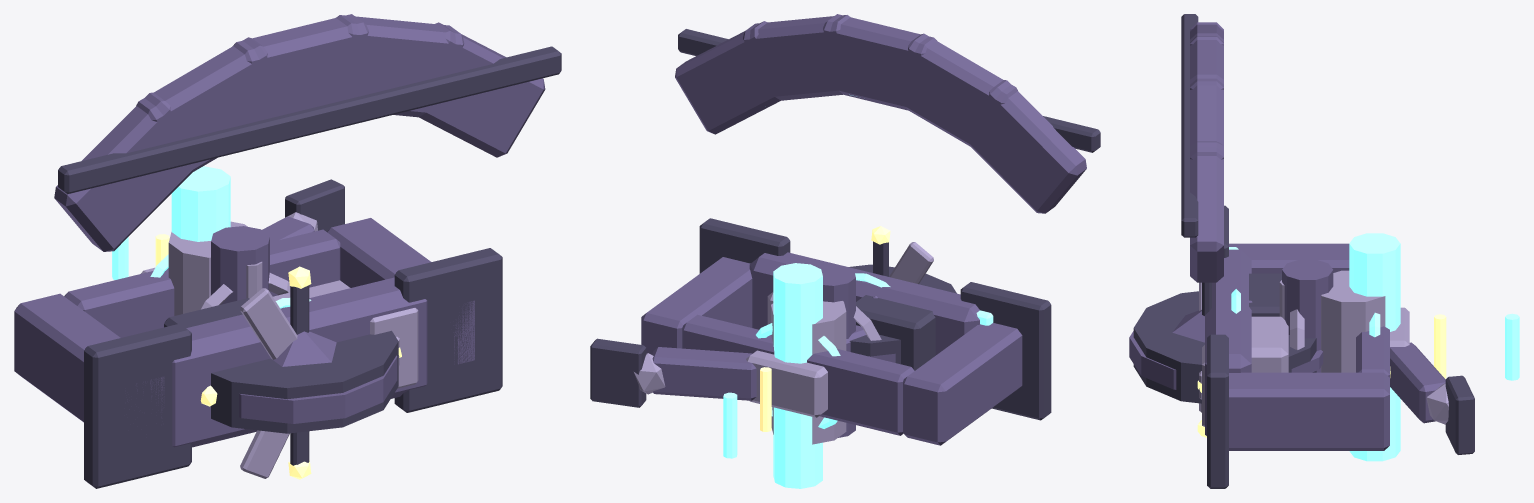
File: momentum_circuit_environment_v8.glb
3 views of the same model, side by side, from view 1: azimuth 30°, elevation 25°; view 2: azimuth 150°, elevation 25°; view 3: azimuth 270°, elevation 25° (orthographic). The views are drawn at different scales.
Parts seen in each view (by area): view 1: EnvFamily01_RingSegment_VioletCeramic, EnvFamily06_DockingFrame_Gunmetal, EnvFamily06_DockingFrame_VioletCeramic, EnvFamily01_RingSegment_Gunmetal, EnvFamily07_CargoSkiff_VioletCeramic, EnvFamily02_EnergyTower_Gunmetal, EnvFamily02_EnergyTower_CyanEmission, EnvFamily04_MaintenanceDisc_VioletCeramic, EnvFamily09_PatrolProbe_LavenderTrim, EnvFamily02_EnergyTower_LavenderTrim, EnvFamily10_SensorPylon_VioletCeramic, EnvFamily05_MechanicalArm_Gunmetal (+6 smaller); view 2: EnvFamily01_RingSegment_VioletCeramic, EnvFamily06_DockingFrame_VioletCeramic, EnvFamily06_DockingFrame_Gunmetal, EnvFamily02_EnergyTower_CyanEmission, EnvFamily07_CargoSkiff_VioletCeramic, EnvFamily05_MechanicalArm_VioletCeramic, EnvFamily10_SensorPylon_LavenderTrim, EnvFamily05_MechanicalArm_Gunmetal, EnvFamily07_CargoSkiff_Gunmetal, EnvFamily02_EnergyTower_LavenderTrim, EnvFamily01_RingSegment_Gunmetal, EnvFamily10_SensorPylon_VioletCeramic (+5 smaller); view 3: EnvFamily06_DockingFrame_VioletCeramic, EnvFamily01_RingSegment_VioletCeramic, EnvFamily02_EnergyTower_CyanEmission, EnvFamily02_EnergyTower_Gunmetal, EnvFamily02_EnergyTower_LavenderTrim, EnvFamily07_CargoSkiff_VioletCeramic, EnvFamily06_DockingFrame_Gunmetal, EnvFamily10_SensorPylon_VioletCeramic, EnvFamily05_MechanicalArm_VioletCeramic, EnvFamily01_RingSegment_Gunmetal, EnvFamily07_CargoSkiff_LavenderTrim, EnvFamily05_MechanicalArm_Gunmetal (+6 smaller).
Part boxes in pixels (x1,y1,x2,y2): EnvFamily01_RingSegment_VioletCeramic: (54, 14, 545, 251); EnvFamily06_DockingFrame_Gunmetal: (84, 248, 502, 488); EnvFamily06_DockingFrame_VioletCeramic: (14, 218, 474, 422); EnvFamily01_RingSegment_Gunmetal: (58, 46, 561, 194); EnvFamily07_CargoSkiff_VioletCeramic: (172, 277, 427, 447); EnvFamily02_EnergyTower_Gunmetal: (211, 295, 398, 433); EnvFamily02_EnergyTower_CyanEmission: (112, 166, 230, 279); EnvFamily04_MaintenanceDisc_VioletCeramic: (239, 355, 397, 423); EnvFamily09_PatrolProbe_LavenderTrim: (240, 288, 399, 478); EnvFamily02_EnergyTower_LavenderTrim: (168, 221, 290, 315); EnvFamily10_SensorPylon_VioletCeramic: (211, 226, 269, 304); EnvFamily05_MechanicalArm_Gunmetal: (258, 179, 344, 366); EnvFamily01_RingSegment_VioletCeramic: (675, 14, 1086, 213); EnvFamily06_DockingFrame_VioletCeramic: (641, 257, 1022, 445); EnvFamily06_DockingFrame_Gunmetal: (699, 218, 1051, 420); EnvFamily02_EnergyTower_CyanEmission: (723, 263, 822, 488); EnvFamily07_CargoSkiff_VioletCeramic: (749, 252, 979, 355); EnvFamily05_MechanicalArm_VioletCeramic: (652, 325, 866, 400); EnvFamily10_SensorPylon_LavenderTrim: (746, 350, 827, 417); EnvFamily05_MechanicalArm_Gunmetal: (590, 338, 646, 407); EnvFamily07_CargoSkiff_Gunmetal: (856, 295, 935, 370); EnvFamily02_EnergyTower_LavenderTrim: (771, 301, 881, 444); EnvFamily01_RingSegment_Gunmetal: (678, 29, 1100, 152); EnvFamily10_SensorPylon_VioletCeramic: (817, 264, 855, 437); EnvFamily06_DockingFrame_VioletCeramic: (1229, 243, 1389, 450); EnvFamily01_RingSegment_VioletCeramic: (1190, 22, 1223, 282); EnvFamily02_EnergyTower_CyanEmission: (1349, 233, 1519, 461); EnvFamily02_EnergyTower_Gunmetal: (1133, 291, 1316, 403); EnvFamily02_EnergyTower_LavenderTrim: (1290, 270, 1385, 372); EnvFamily07_CargoSkiff_VioletCeramic: (1205, 249, 1251, 435); EnvFamily06_DockingFrame_Gunmetal: (1207, 205, 1228, 488); EnvFamily10_SensorPylon_VioletCeramic: (1282, 259, 1333, 372); EnvFamily05_MechanicalArm_VioletCeramic: (1390, 342, 1445, 423); EnvFamily01_RingSegment_Gunmetal: (1181, 14, 1198, 237); EnvFamily07_CargoSkiff_LavenderTrim: (1251, 316, 1288, 372); EnvFamily05_MechanicalArm_Gunmetal: (1183, 336, 1474, 454).
Bounding box in the file's own units: 8 × 7.15 × 6.39.
